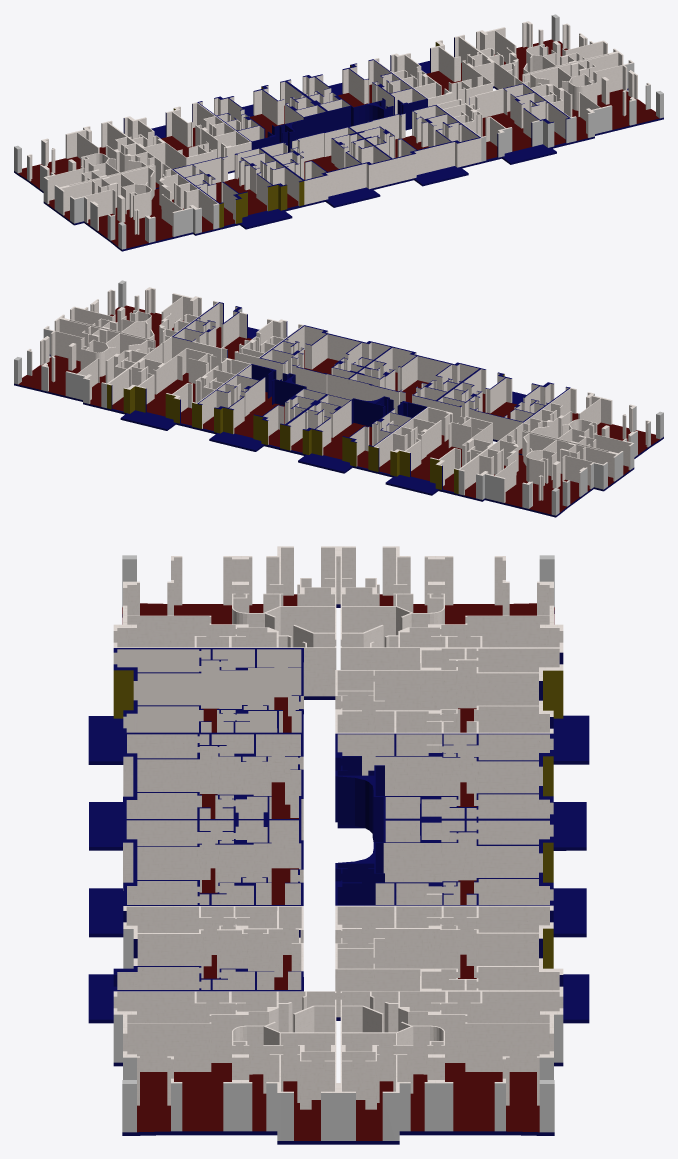
The model's file is ArmeniaDriveBase.fbx.
3 views of the same model, one above another, from view 1: azimuth 30°, elevation 25°; view 2: azimuth 150°, elevation 25°; view 3: azimuth 270°, elevation 25° (orthographic). The views are drawn at different scales.
Visible parts, largest first — view 1: L0, G0, H0, J0, I0, K0, A0, D0, B0, C0, F0, E0; view 2: A0, F0, B0, E0, D0, C0, L0, I0, J0, G0, K0, H0; view 3: F0, G0, C0, E0, B0, D0, K0, A0, J0, L0, I0, H0.
Boxes of the visible parts, x1,y1,x2,y2 form: L0: (59, 163, 219, 251); G0: (515, 52, 663, 143); H0: (436, 83, 570, 164); J0: (259, 127, 392, 207); I0: (348, 105, 481, 186); K0: (172, 148, 304, 229); A0: (14, 122, 162, 213); D0: (285, 59, 427, 131); B0: (107, 102, 251, 173); C0: (197, 81, 327, 152); F0: (459, 14, 618, 89); E0: (373, 36, 494, 106); A0: (458, 429, 618, 517); F0: (14, 318, 162, 409); B0: (373, 407, 493, 495); E0: (107, 348, 250, 430); D0: (197, 364, 326, 451); C0: (285, 394, 427, 473); L0: (515, 388, 663, 479); I0: (259, 325, 392, 399); J0: (348, 346, 480, 413); G0: (59, 280, 218, 363); K0: (436, 368, 570, 441); H0: (172, 302, 303, 370); F0: (338, 991, 563, 1144); G0: (113, 991, 338, 1144); C0: (335, 733, 586, 850); E0: (335, 905, 589, 1023); B0: (335, 648, 589, 764); D0: (335, 819, 586, 937); K0: (88, 648, 303, 764); A0: (338, 546, 563, 669); J0: (89, 733, 303, 850); L0: (113, 546, 338, 699); I0: (89, 819, 303, 937); H0: (88, 906, 303, 1023).
Bounding box in the file's own units: 6341 × 2452 × 280.
